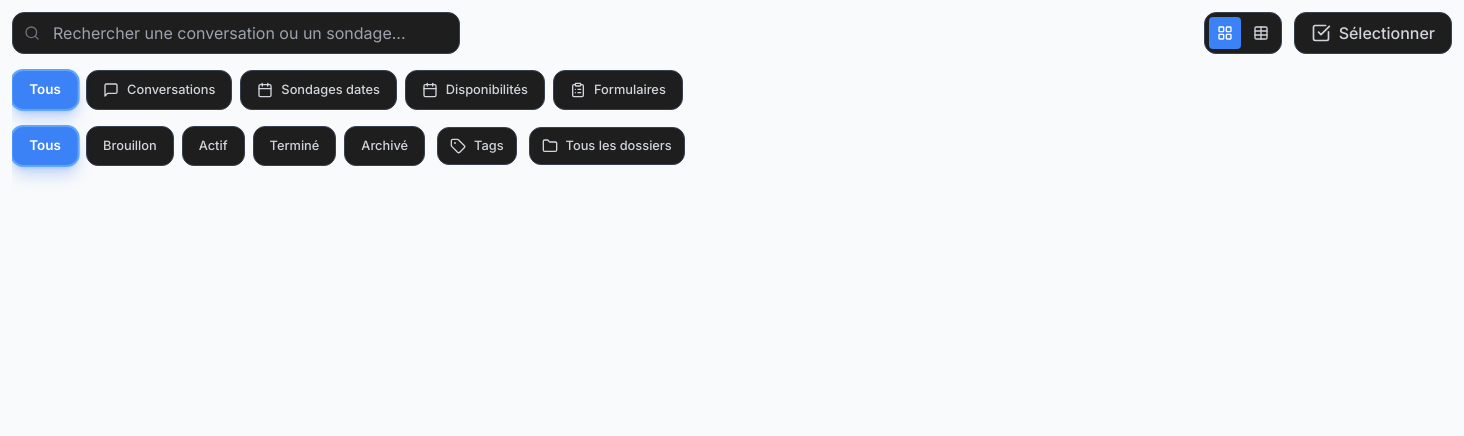
Test: DashboardFilters › should open folders menu when clicking folders button
Click the button "Tous les dossiers" at (607, 146), box [529,127,685,165]
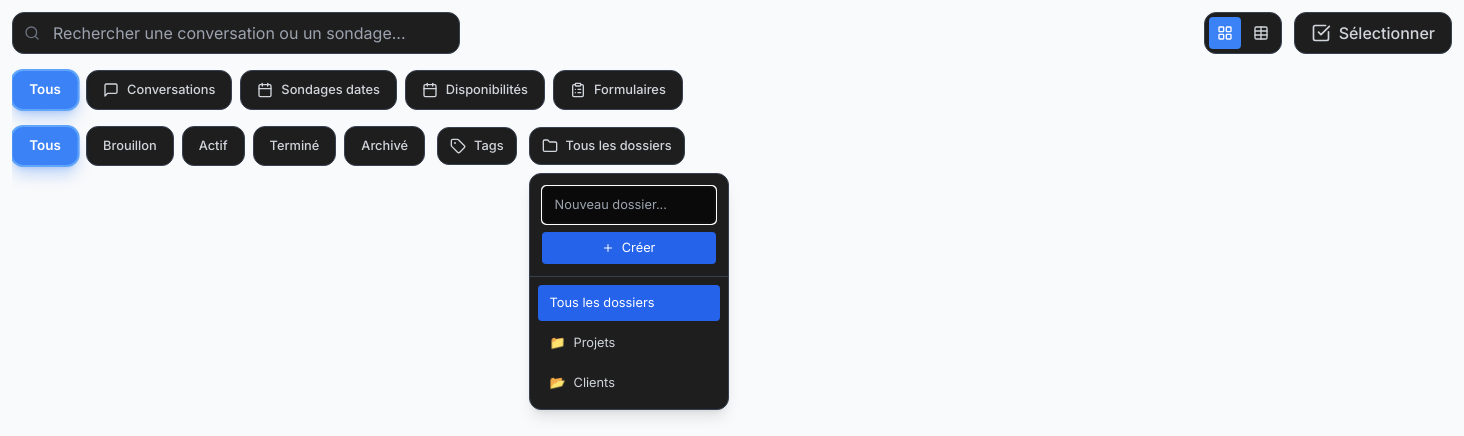
expect the field with placeholder "Nouveau dossier..." is shown: met, box [542,186,716,224]
